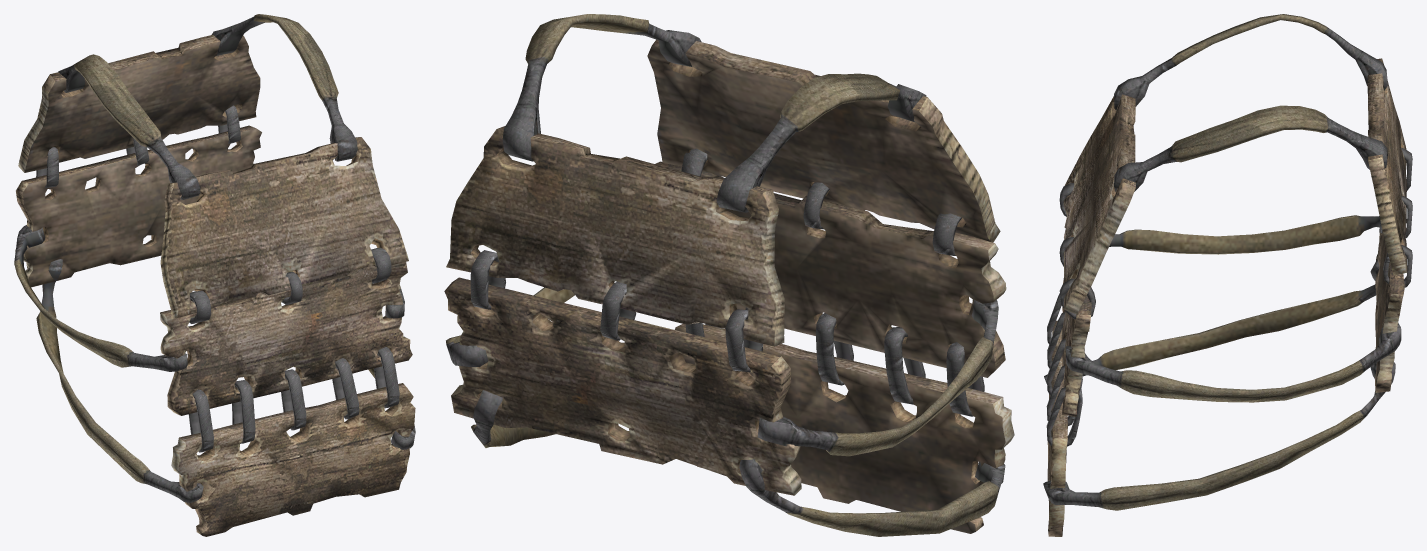
The model's file is SurvivorMale_Armor_Makeshift_Wood_LOD0.glb.
3 views of the same model, side by side, from view 1: azimuth 30°, elevation 25°; view 2: azimuth 150°, elevation 25°; view 3: azimuth 270°, elevation 25° (orthographic). The views are drawn at different scales.
Visible parts, largest first — view 1: Hoodie; view 2: Hoodie; view 3: Hoodie.
Part boxes in pixels (x1,y1,x2,y2): Hoodie: [14, 14, 415, 536]; Hoodie: [444, 14, 1014, 536]; Hoodie: [1043, 14, 1412, 536].
Bounding box in the file's own units: 0.3763 × 0.4693 × 0.3696.
1 material, 1 textured.
